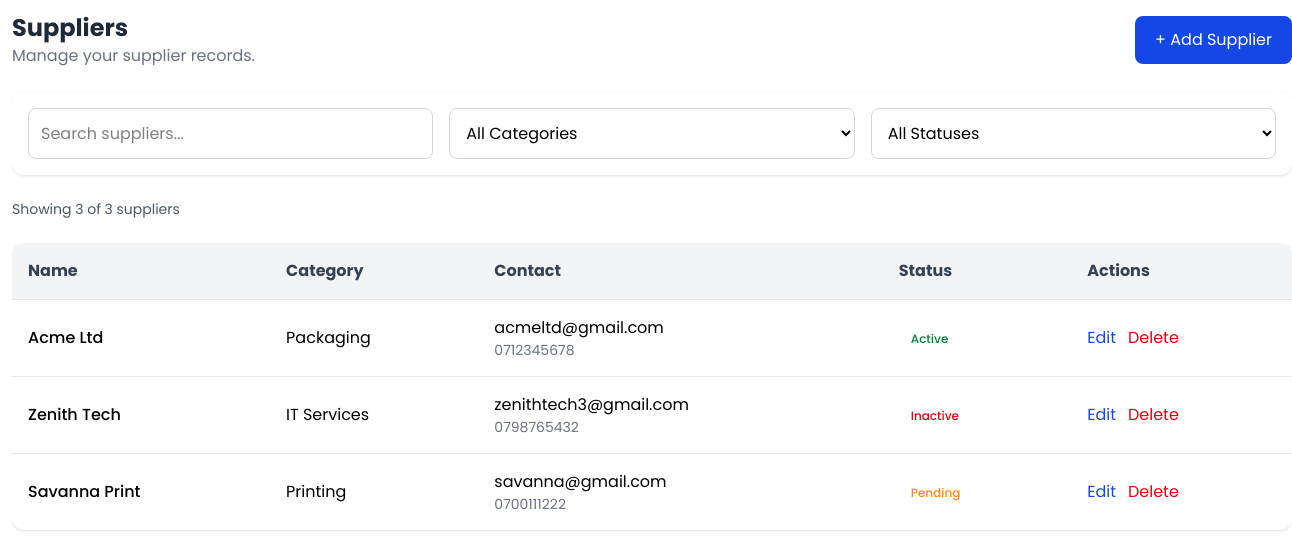
it: Suppliers Page › searches suppliers by phone
Type "0700111222" into the search field labelled "Search suppliers...".
click(231, 134); type("0700111222")  # box [28,108,433,159]
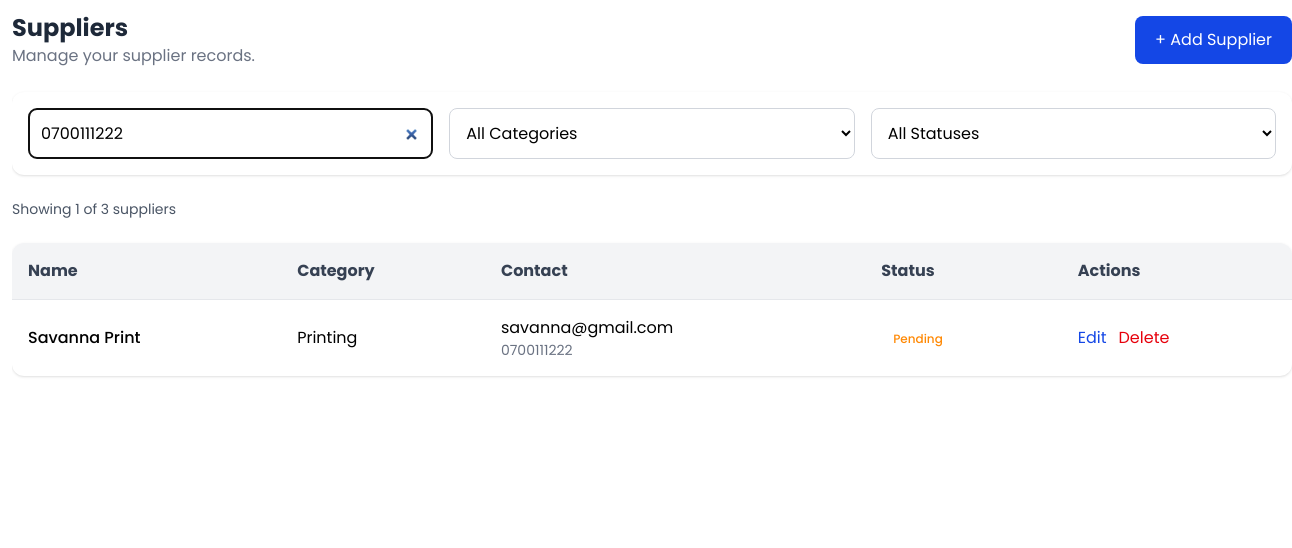
Expected: the text "Savanna Print" is shown, [12,300,281,376]
Expected: the text "Acme Ltd" is gone
